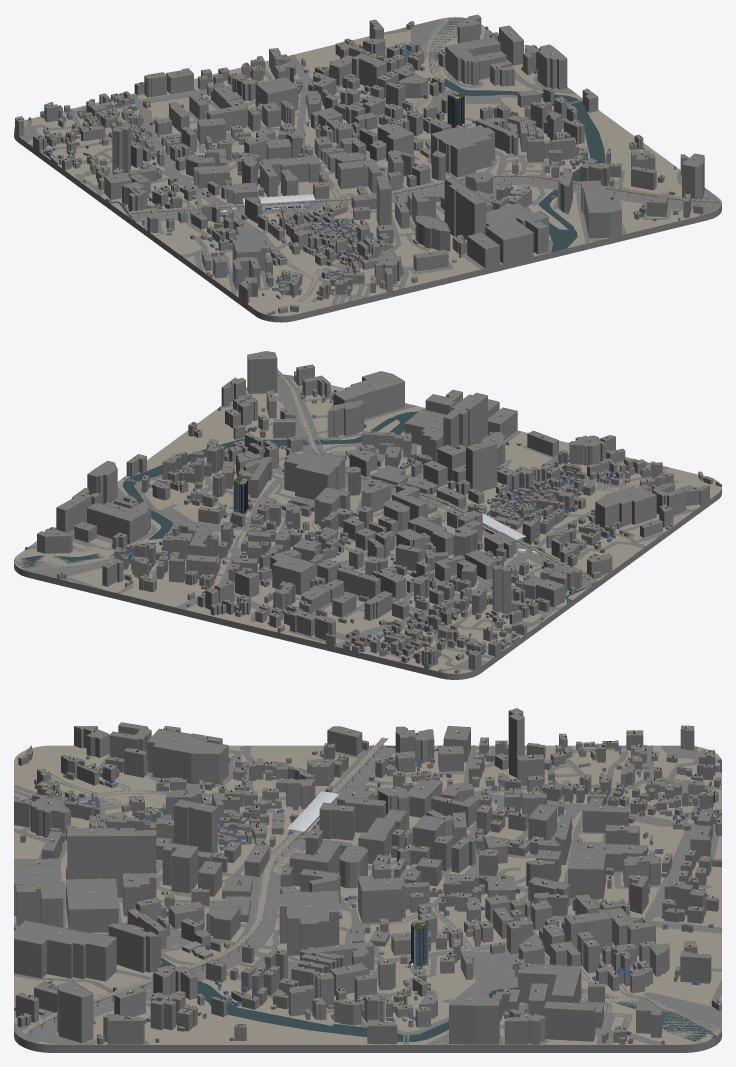
The model's file is 723-avenue.glb.
3 renders of one model, top to bottom at view 1: azimuth 30°, elevation 25°; view 2: azimuth 150°, elevation 25°; view 3: azimuth 270°, elevation 25°, orthographic. The views are drawn at different scales.
Visible parts, largest first — view 1: context_00, context_01, context_10, context_11, ground_10, ground_01, ground_00, ground_11, plinth, rooftops_00, metro, stations (+1 smaller); view 2: context_01, context_00, context_11, context_10, ground_01, ground_10, ground_11, plinth, ground_00, rooftops_00, metro; view 3: context_10, context_11, context_01, context_00, ground_10, ground_01, ground_11, ground_00, plinth, rooftops_00, metro, stations (+1 smaller).
Boxes of the visible parts, left/top/right/bottom form: context_00: left=142, top=152, right=499, bottom=314; context_01: left=15, top=64, right=366, bottom=211; context_10: left=379, top=97, right=704, bottom=263; context_11: left=243, top=14, right=597, bottom=161; ground_10: left=296, top=24, right=721, bottom=314; ground_01: left=14, top=28, right=410, bottom=309; ground_00: left=137, top=68, right=484, bottom=316; ground_11: left=257, top=17, right=587, bottom=307; plinth: left=14, top=131, right=721, bottom=322; rooftops_00: left=18, top=20, right=698, bottom=284; metro: left=130, top=172, right=720, bottom=217; stations: left=242, top=194, right=315, bottom=211; context_01: left=244, top=506, right=582, bottom=673; context_00: left=383, top=392, right=721, bottom=579; context_11: left=25, top=454, right=364, bottom=616; context_10: left=138, top=351, right=499, bottom=516; ground_01: left=61, top=493, right=717, bottom=673; ground_10: left=18, top=374, right=704, bottom=554; ground_11: left=14, top=471, right=715, bottom=609; plinth: left=14, top=489, right=721, bottom=679; ground_00: left=21, top=430, right=721, bottom=583; rooftops_00: left=48, top=354, right=696, bottom=655; metro: left=277, top=368, right=593, bottom=582; context_10: left=14, top=831, right=376, bottom=1044; context_11: left=356, top=868, right=721, bottom=1044; context_01: left=349, top=708, right=721, bottom=898; context_00: left=14, top=722, right=385, bottom=896; ground_10: left=14, top=762, right=682, bottom=1044; ground_01: left=53, top=745, right=721, bottom=1006; ground_11: left=56, top=747, right=721, bottom=1044; ground_00: left=14, top=745, right=679, bottom=1043; plinth: left=14, top=1030, right=721, bottom=1052; rooftops_00: left=20, top=712, right=719, bottom=1029; metro: left=22, top=737, right=388, bottom=1035; stations: left=287, top=791, right=338, bottom=840.
Bounding box in the file's own units: 1101 × 124 × 1100.
